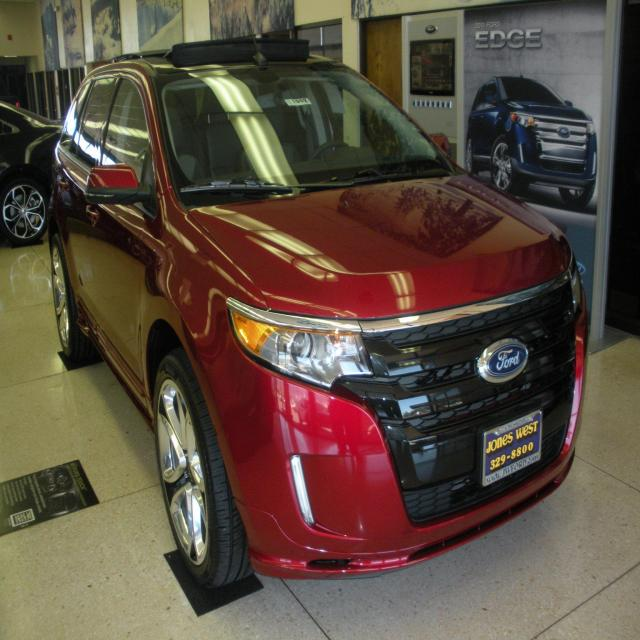Car: (41, 33, 602, 610)
